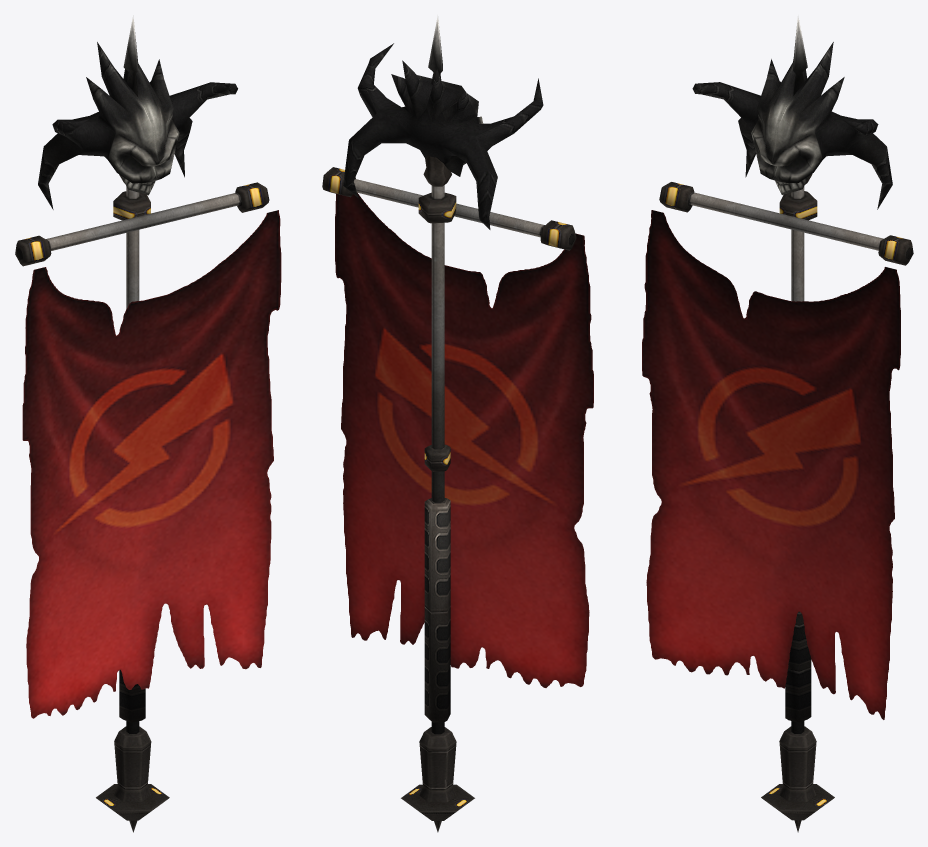
Rendered from dm_ctf_flag_02.FBX.
3 views of the same model, side by side, from view 1: azimuth 30°, elevation 25°; view 2: azimuth 150°, elevation 25°; view 3: azimuth 330°, elevation 25° (orthographic).
Visible parts, largest first — view 1: Flag, Flag_Pole_B; view 2: Flag, Flag_Pole_B; view 3: Flag, Flag_Pole_B.
Boxes of the visible parts, bbox=[...] form: Flag: bbox=[22, 210, 281, 718]; Flag_Pole_B: bbox=[15, 15, 269, 832]; Flag: bbox=[335, 192, 593, 687]; Flag_Pole_B: bbox=[322, 15, 576, 832]; Flag: bbox=[642, 210, 900, 719]; Flag_Pole_B: bbox=[659, 15, 913, 832].
Bounding box in the file's own units: 2.29 × 6.43 × 0.7585.
